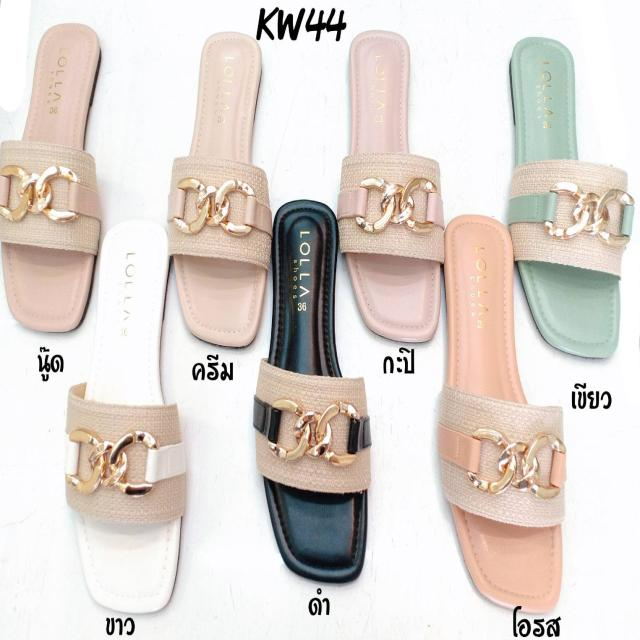black: (255, 203, 372, 583)
cream: (178, 30, 270, 352)
green: (508, 42, 618, 359)
kapi: (342, 30, 445, 346)
nood: (5, 21, 100, 335)
orot: (440, 212, 562, 606)
white: (66, 216, 186, 617)
